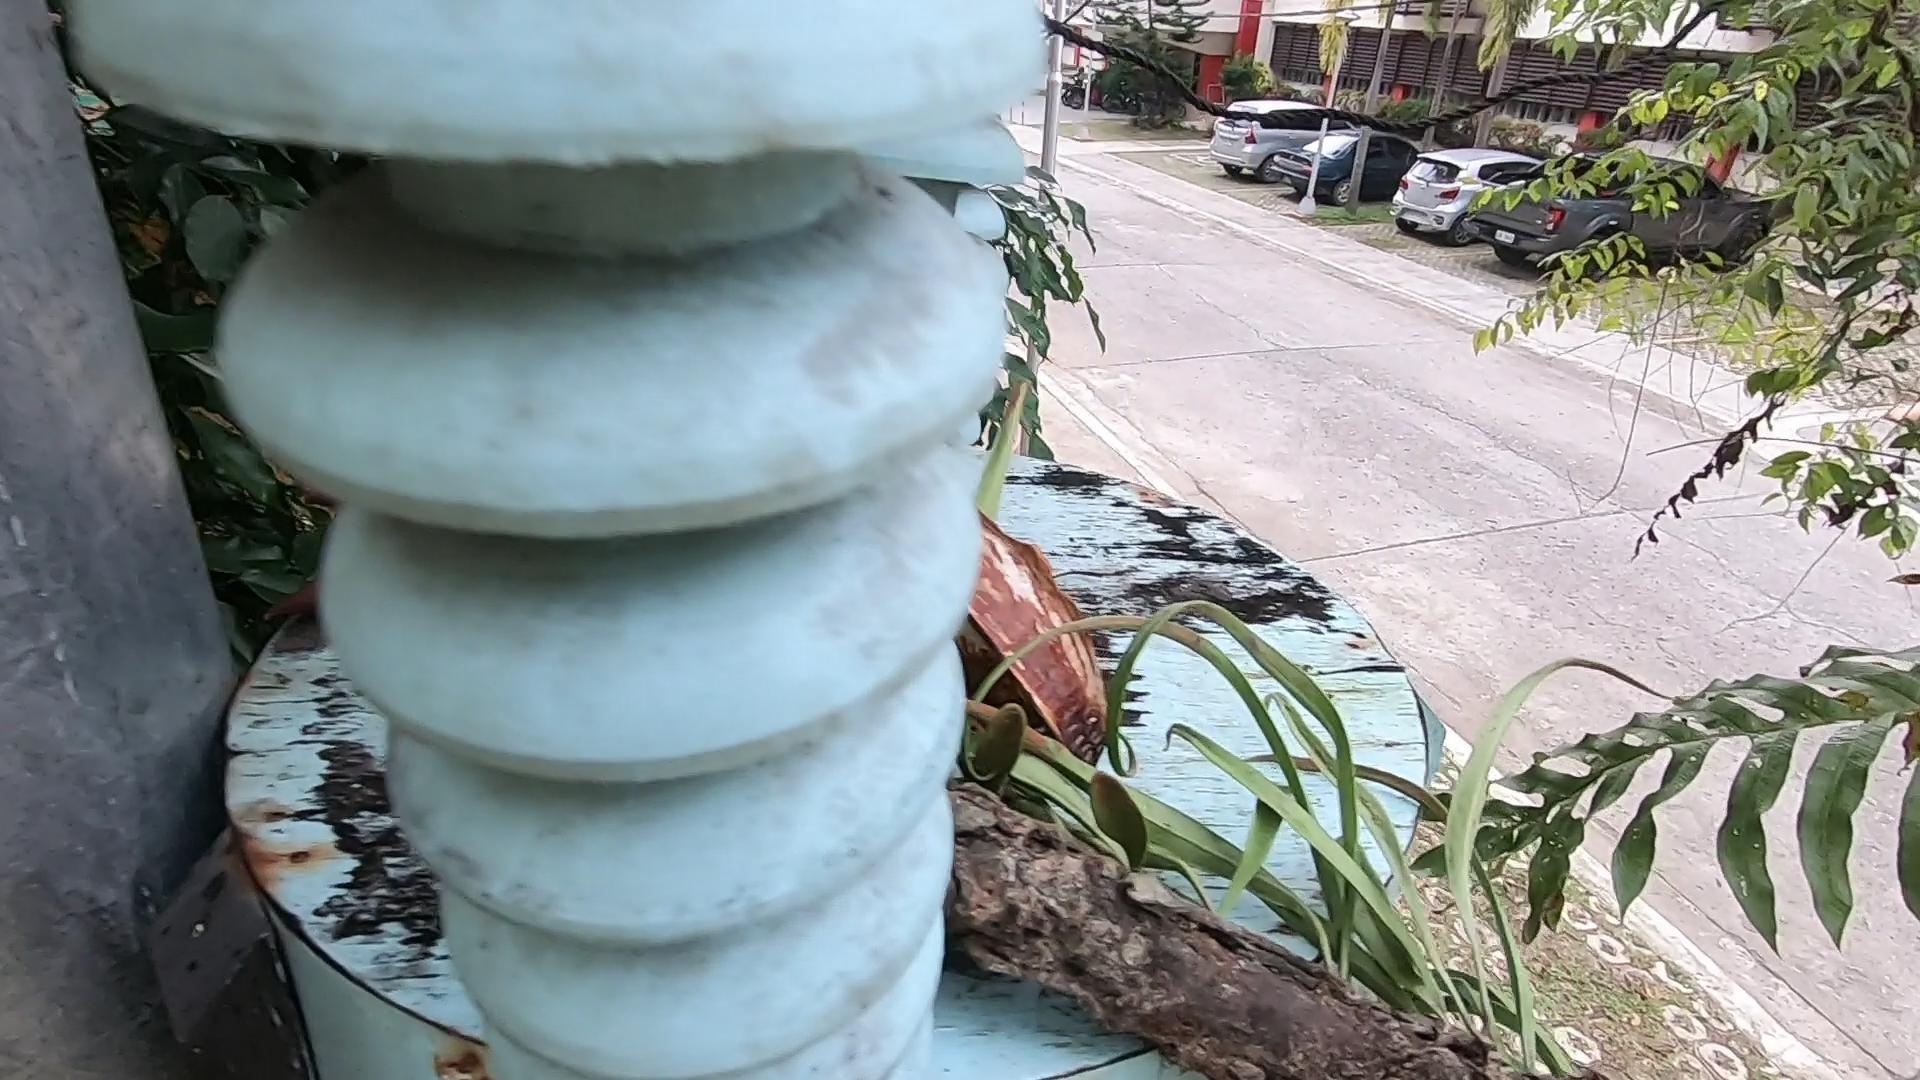branch with leaves: (963, 796, 1382, 1080)
leaf: (208, 471, 305, 632)
mahogany fruit: (732, 356, 1218, 800)
